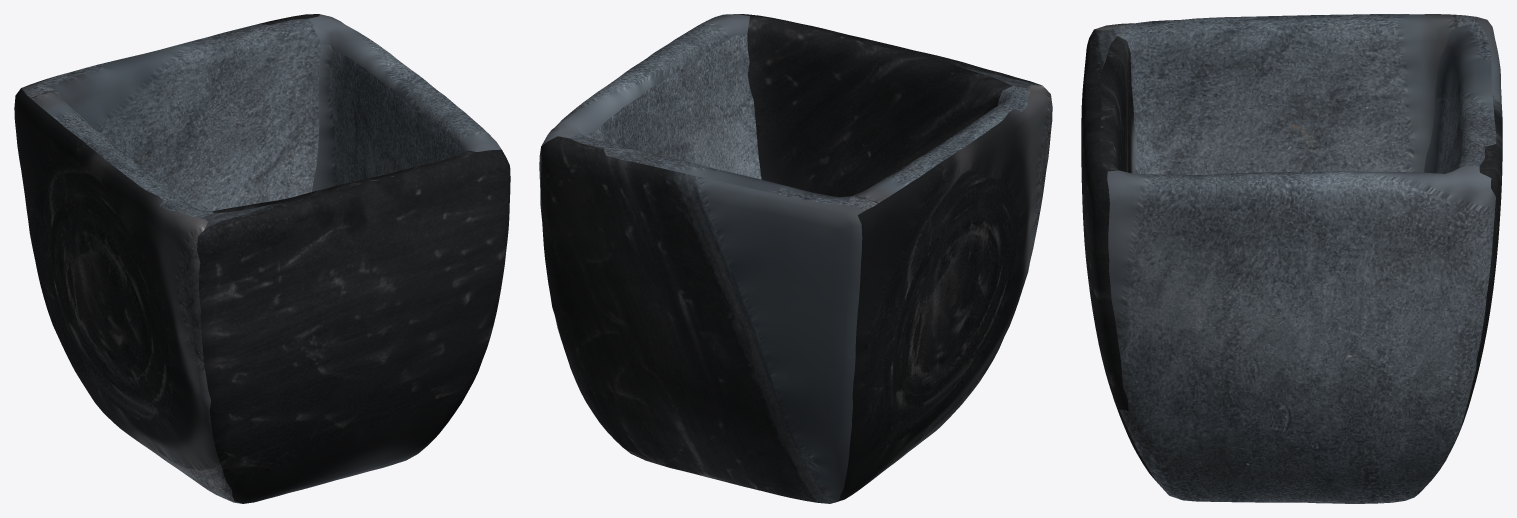
3 renders of one model, left to right at view 1: azimuth 30°, elevation 25°; view 2: azimuth 150°, elevation 25°; view 3: azimuth 270°, elevation 25°, orthographic. The views are drawn at different scales.
Parts seen in each view (by area): view 1: Aset_interior_decoration_S_vbljdakjw_LOD0; view 2: Aset_interior_decoration_S_vbljdakjw_LOD0; view 3: Aset_interior_decoration_S_vbljdakjw_LOD0.
Boxes of the visible parts, <box> form: Aset_interior_decoration_S_vbljdakjw_LOD0: <box>14,14,510,503</box>; Aset_interior_decoration_S_vbljdakjw_LOD0: <box>539,14,1052,503</box>; Aset_interior_decoration_S_vbljdakjw_LOD0: <box>1081,14,1502,503</box>.
Size of the model in its own units: 0.0438 by 0.0444 by 0.0415.
1 material, 1 textured.
